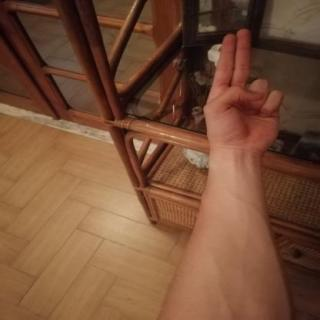TA: (194, 20, 296, 164)
